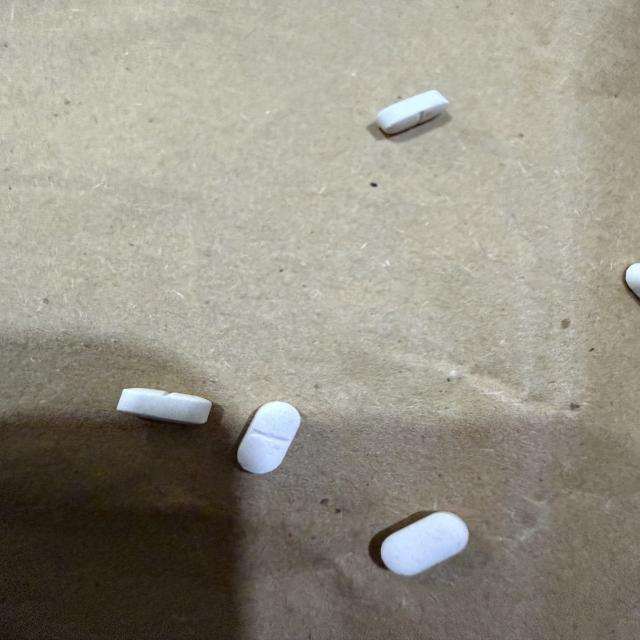pill: (381, 512, 468, 575), (238, 402, 300, 473), (117, 388, 211, 424), (377, 90, 449, 134), (626, 264, 639, 297)
